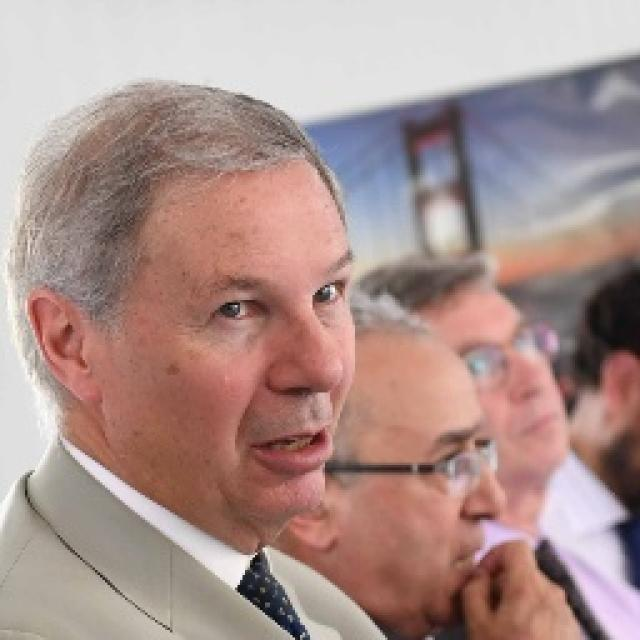earlobe: (24, 292, 103, 407)
